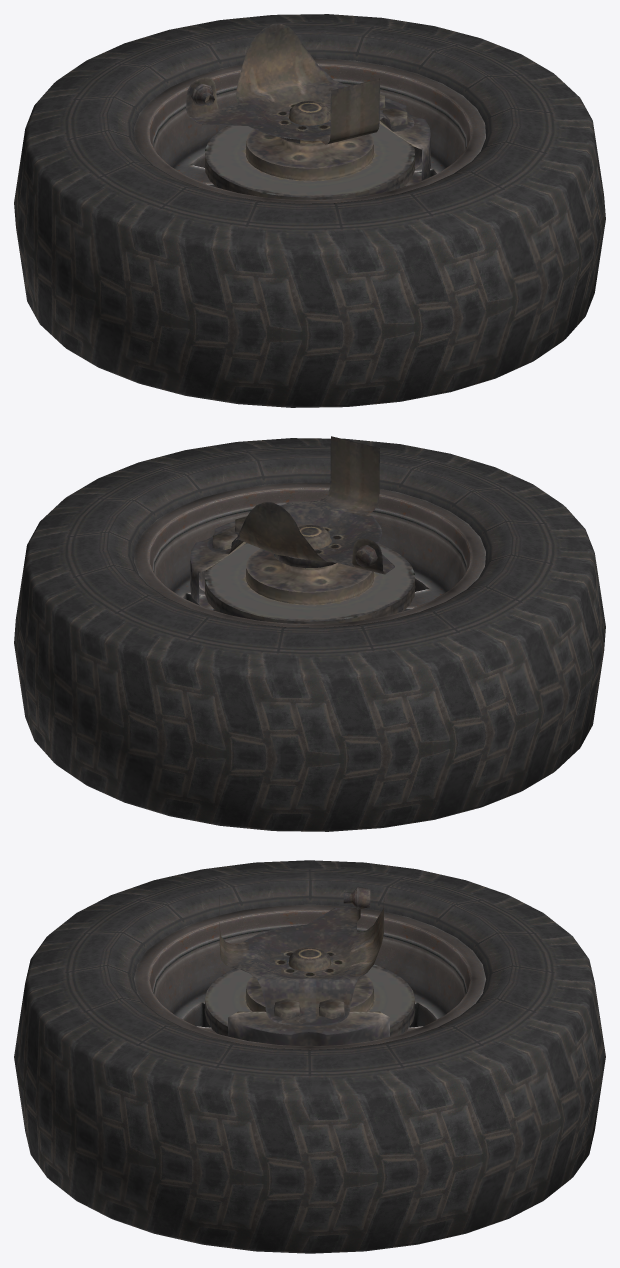
File: Buggy_Wheel_RF.obj
3 views of the same model, one above another, from view 1: azimuth 30°, elevation 25°; view 2: azimuth 150°, elevation 25°; view 3: azimuth 270°, elevation 25° (orthographic).
Visible parts, largest first — view 1: RF_Wheel; view 2: RF_Wheel; view 3: RF_Wheel.
Boxes of the visible parts, x1,y1,x2,y2 form: RF_Wheel: [14, 14, 605, 407]; RF_Wheel: [14, 436, 605, 831]; RF_Wheel: [14, 860, 605, 1253].
Bounding box in the file's own units: 0.7954 × 0.3718 × 0.7954.
2 materials, 2 textured.
